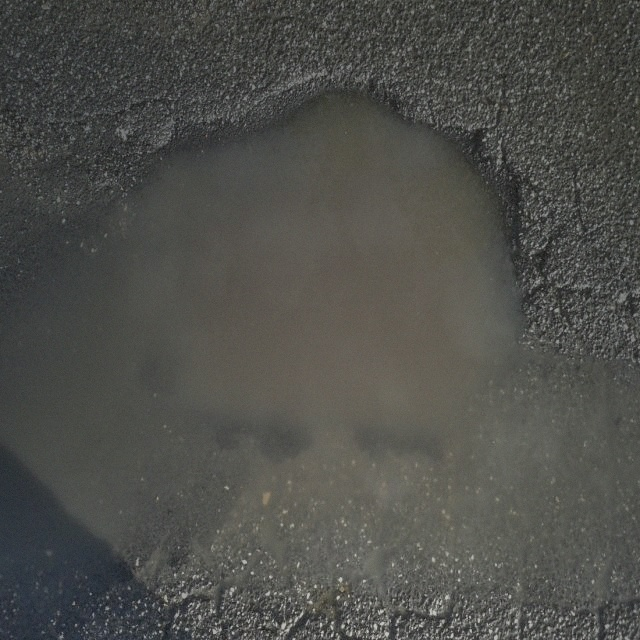pothole: (97, 42, 537, 450)
